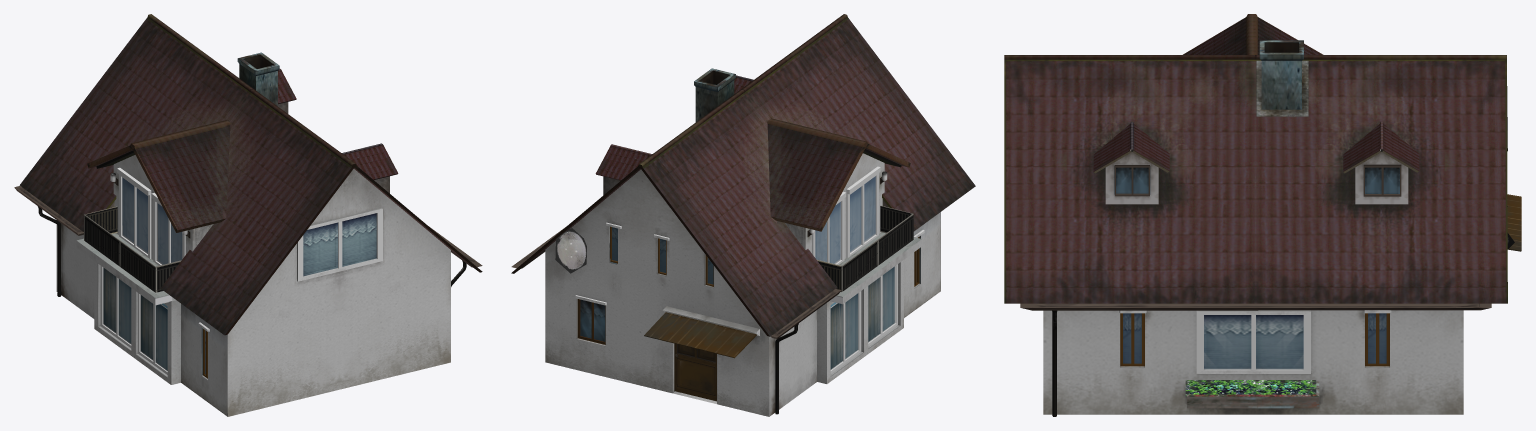
Rendered from house5.obj.
The picture shows the model from 3 angles, left to right: view 1: azimuth 30°, elevation 25°; view 2: azimuth 150°, elevation 25°; view 3: azimuth 270°, elevation 25°; orthographic projection. The views are drawn at different scales.
Parts seen in each view (by area): view 1: City_building_036.001; view 2: City_building_036.001; view 3: City_building_036.001.
Part boxes in pixels (left/top/right/bottom): City_building_036.001: left=14, top=14, right=482, bottom=416; City_building_036.001: left=511, top=14, right=975, bottom=416; City_building_036.001: left=1004, top=14, right=1521, bottom=416.
Size of the model in its own units: 1.65 by 1.46 by 2.2.
1 material, 1 textured.
